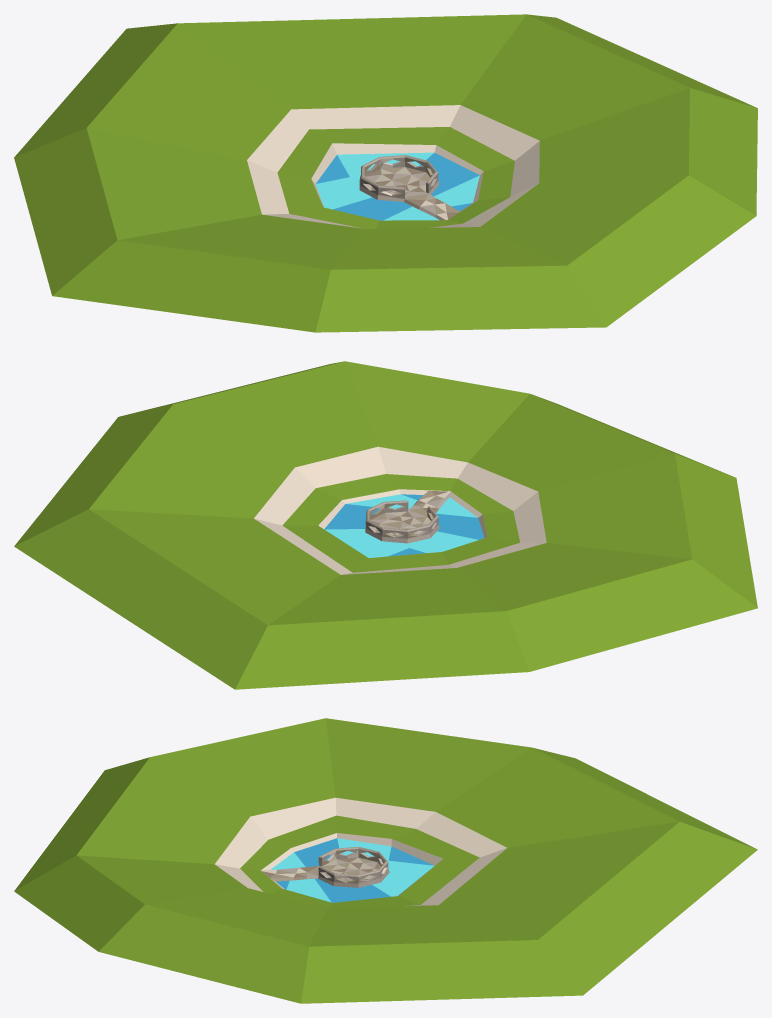
The model's file is FountainScene.fbx.
3 renders of one model, top to bottom at view 1: azimuth 30°, elevation 25°; view 2: azimuth 150°, elevation 25°; view 3: azimuth 270°, elevation 25°, orthographic. The views are drawn at different scales.
Visible parts, largest first — view 1: Ground, Path; view 2: Ground, Path; view 3: Ground, Path.
Boxes of the visible parts, x1,y1,x2,y2 form: Ground: (14, 14, 757, 332); Path: (359, 155, 460, 220); Ground: (14, 361, 757, 689); Path: (365, 490, 450, 543); Ground: (14, 718, 757, 1003); Path: (261, 846, 389, 887).
Size of the model in its own units: 5777 by 486 by 5943.
